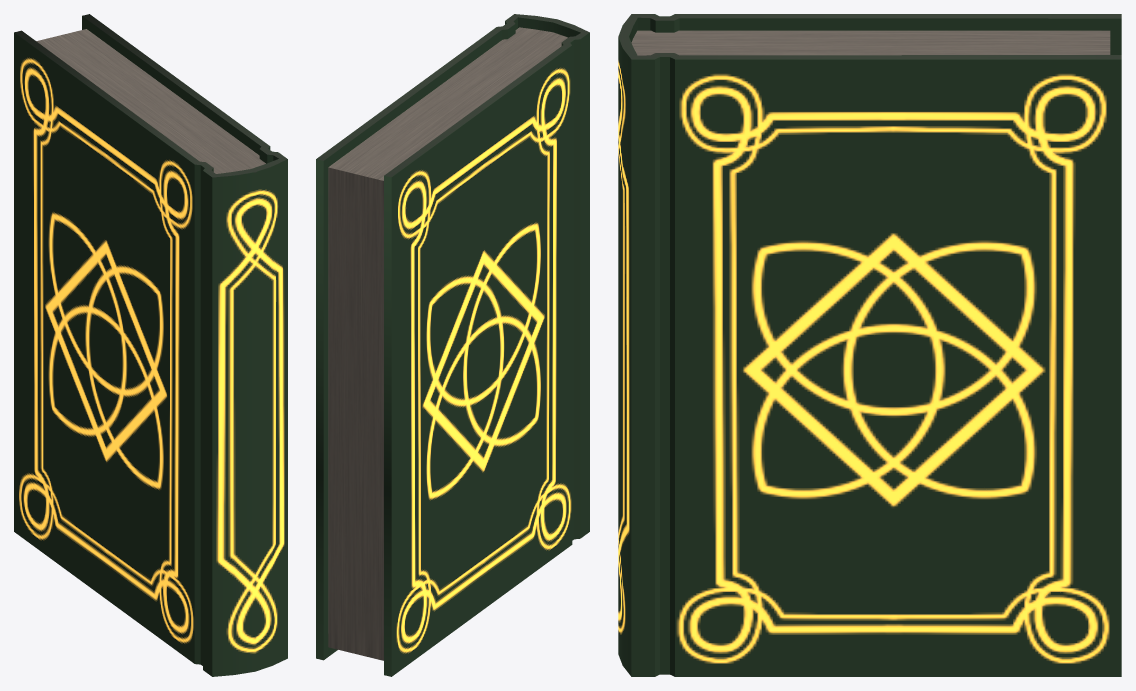
The model's file is Tome.fbx.
The picture shows the model from 3 angles, left to right: view 1: azimuth 30°, elevation 25°; view 2: azimuth 150°, elevation 25°; view 3: azimuth 270°, elevation 25°; orthographic projection. The views are drawn at different scales.
Visible parts, largest first — view 1: TomeCover, TomePages; view 2: TomeCover, TomePages; view 3: TomeCover, TomePages.
Boxes of the visible parts, left/top/right/bottom form: TomeCover: left=14, top=14, right=287, bottom=676; TomePages: left=36, top=29, right=265, bottom=173; TomeCover: left=316, top=14, right=589, bottom=676; TomePages: left=328, top=27, right=567, bottom=660; TomeCover: left=618, top=14, right=1121, bottom=676; TomePages: left=631, top=30, right=1110, bottom=55.
Size of the model in its own units: 27.11 by 171 by 127.
